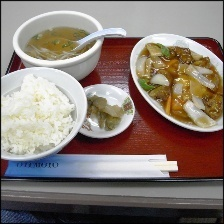rice: (0, 71, 76, 160)
